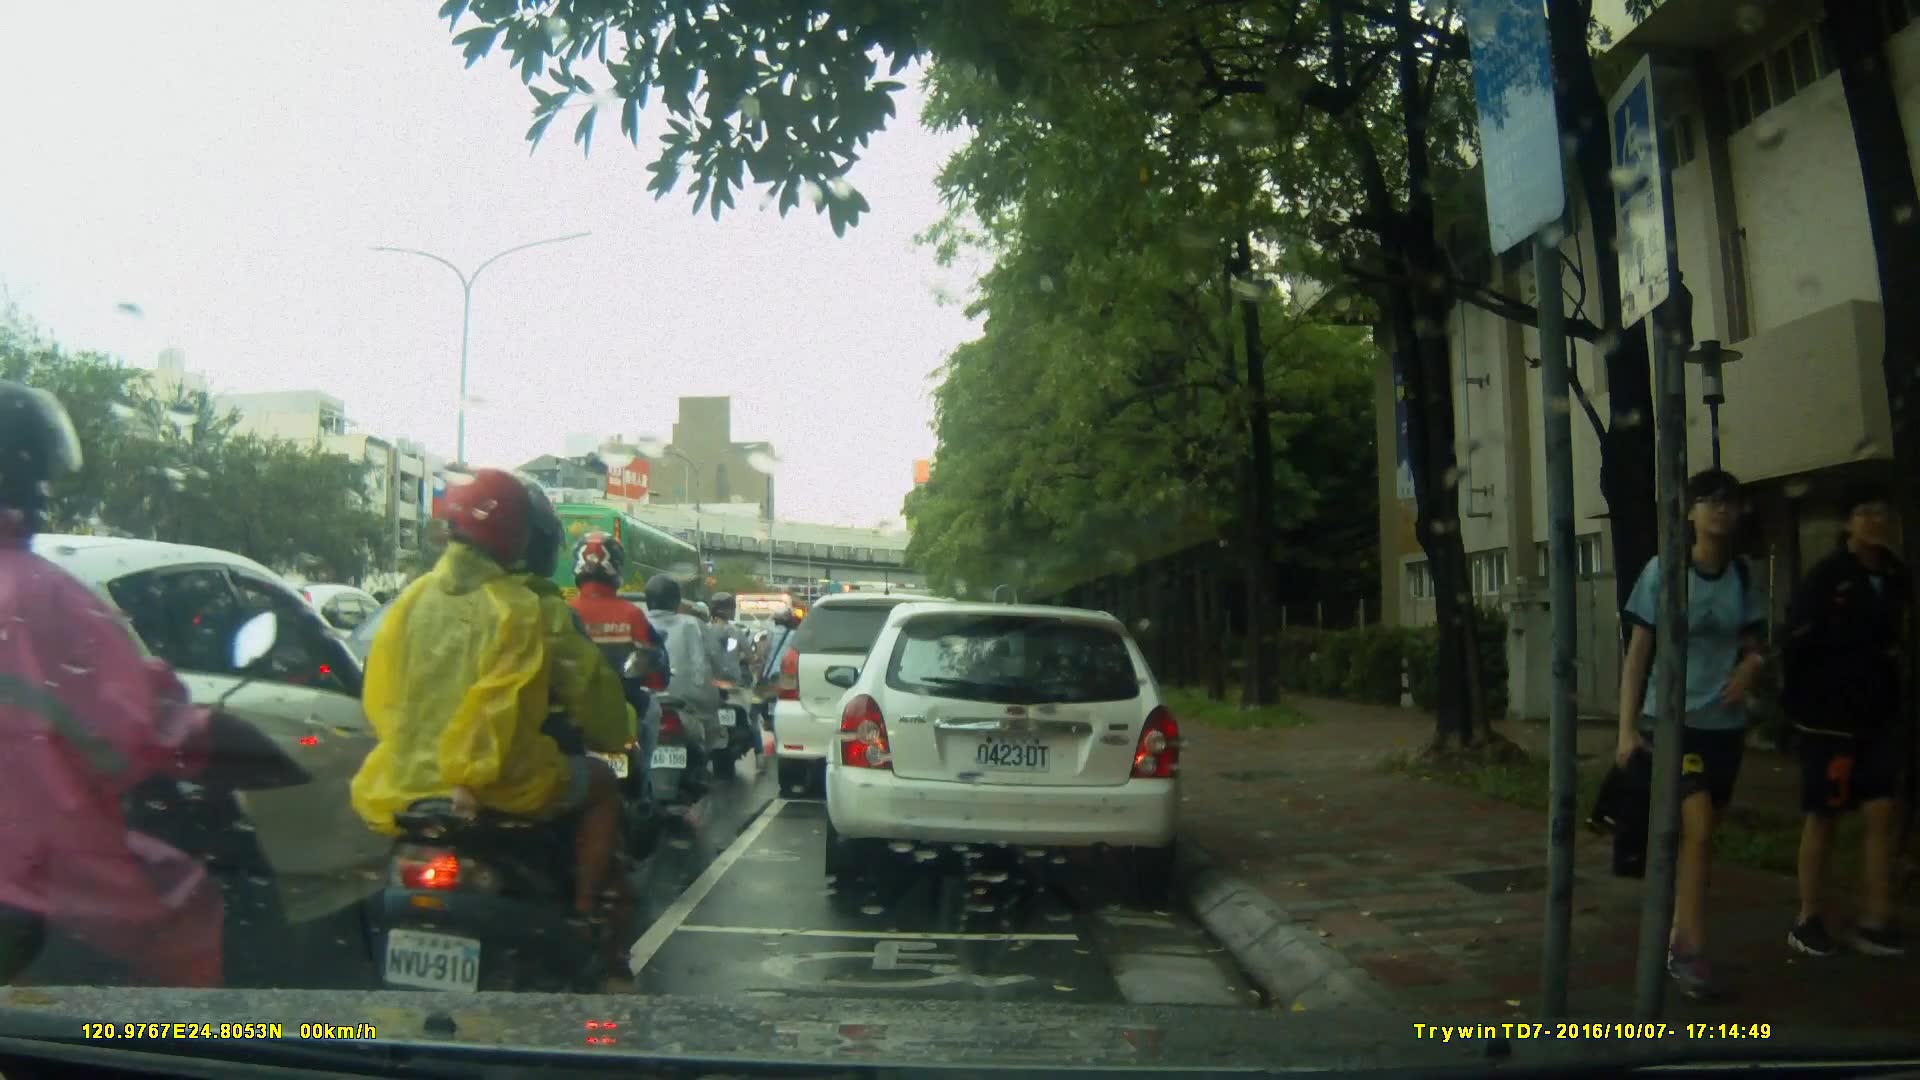pedestrian: (1592, 469, 1795, 996), (1759, 500, 1913, 963)
rider: (1, 386, 289, 1063), (355, 469, 632, 1028), (541, 532, 683, 861), (619, 573, 730, 810), (695, 586, 767, 769), (756, 607, 813, 738)
vehicle: (2, 533, 461, 988), (831, 592, 1196, 897), (320, 590, 629, 776), (770, 590, 999, 804), (495, 500, 708, 636)
